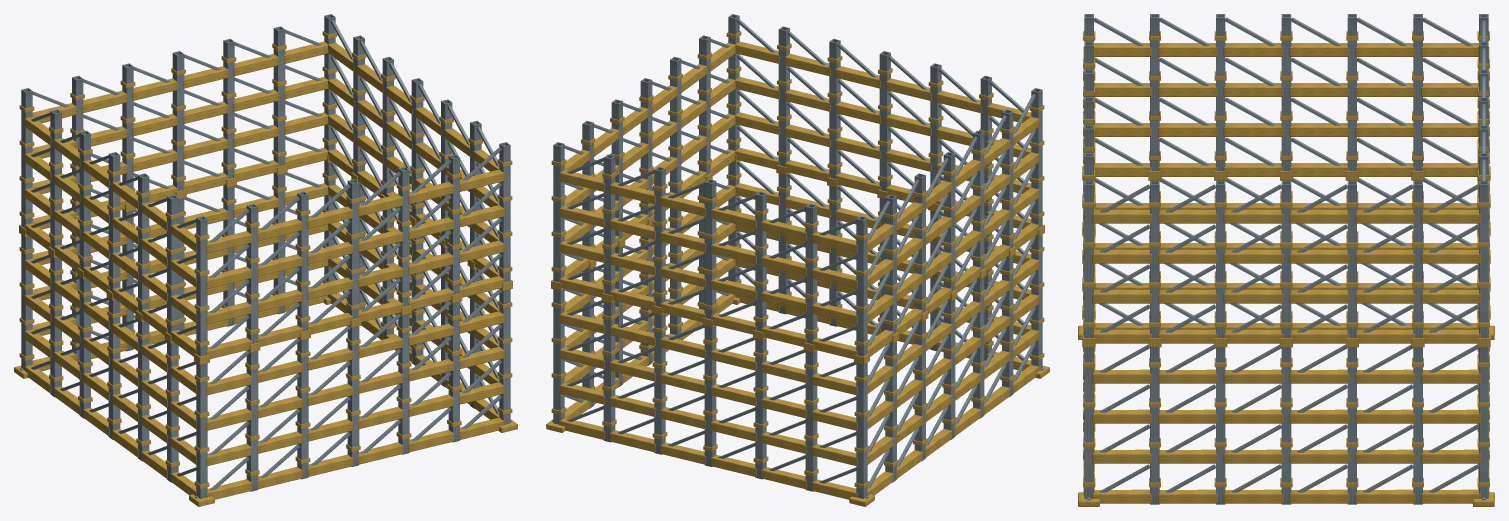
3 renders of one model, left to right at view 1: azimuth 30°, elevation 25°; view 2: azimuth 150°, elevation 25°; view 3: azimuth 270°, elevation 25°, orthographic. The views are drawn at different scales.
Visible parts, largest first — view 1: Tier 1 side 0 post 0, Tier 0 side 0 post 0, Tier 1 side 2 post 1, Tier 1 side 2 post 3, Tier 1 side 0 post 1, Tier 1 side 0 post 3, Tier 1 side 2 post 2, Tier 0 side 0 post 1, Tier 1 side 1 post 0, Tier 0 side 0 post 3, Tier 1 side 0 post 2, Tier 1 side 0 post 4 (+94 smaller); view 2: Tier 1 side 3 post 0, Tier 0 side 3 post 0, Tier 1 side 2 post 3, Tier 1 side 2 post 5, Tier 1 side 2 post 1, Tier 0 side 2 post 3, Tier 0 side 2 post 1, Tier 0 side 2 post 5, Tier 1 side 2 post 0, Tier 1 side 2 post 2, Tier 1 side 2 post 4, Tier 1 side 0 post 3 (+95 smaller); view 3: Tier 1 side 1 post 3, Tier 1 side 3 post 3, Tier 0 side 1 post 3, Tier 1 side 1 post 0, Tier 1 side 2 post 0, Tier 1 side 1 post 2, Tier 1 side 1 post 4, Tier 1 side 3 post 2, Tier 1 side 3 post 4, Tier 0 side 1 post 2, Tier 0 side 1 post 4, Tier 1 side 3 post 5 (+79 smaller).
Part boxes in pixels (left/top/right/bottom): Tier 1 side 0 post 0: left=196, top=216, right=207, bottom=356; Tier 0 side 0 post 0: left=196, top=363, right=207, bottom=498; Tier 1 side 2 post 1: left=273, top=26, right=285, bottom=166; Tier 1 side 2 post 3: left=172, top=51, right=184, bottom=191; Tier 1 side 0 post 1: left=246, top=203, right=258, bottom=343; Tier 1 side 0 post 3: left=347, top=179, right=359, bottom=319; Tier 1 side 2 post 2: left=223, top=38, right=234, bottom=178; Tier 0 side 0 post 1: left=246, top=351, right=258, bottom=491; Tier 1 side 1 post 0: left=499, top=142, right=510, bottom=282; Tier 0 side 0 post 3: left=347, top=326, right=359, bottom=466; Tier 1 side 0 post 2: left=297, top=191, right=308, bottom=331; Tier 1 side 0 post 4: left=398, top=166, right=409, bottom=306; Tier 1 side 3 post 0: left=856, top=216, right=867, bottom=356; Tier 0 side 3 post 0: left=856, top=363, right=867, bottom=498; Tier 1 side 2 post 3: left=704, top=179, right=716, bottom=319; Tier 1 side 2 post 5: left=805, top=203, right=817, bottom=343; Tier 1 side 2 post 1: left=603, top=154, right=615, bottom=294; Tier 0 side 2 post 3: left=704, top=326, right=716, bottom=466; Tier 0 side 2 post 1: left=603, top=301, right=615, bottom=442; Tier 0 side 2 post 5: left=805, top=350, right=817, bottom=491; Tier 1 side 2 post 0: left=553, top=142, right=564, bottom=282; Tier 1 side 2 post 2: left=654, top=166, right=665, bottom=306; Tier 1 side 2 post 4: left=755, top=191, right=766, bottom=331; Tier 1 side 0 post 3: left=879, top=51, right=890, bottom=191; Tier 1 side 1 post 3: left=1281, top=181, right=1291, bottom=338; Tier 1 side 3 post 3: left=1281, top=14, right=1291, bottom=171; Tier 0 side 1 post 3: left=1281, top=347, right=1291, bottom=504; Tier 1 side 1 post 0: left=1084, top=181, right=1093, bottom=338; Tier 1 side 2 post 0: left=1479, top=181, right=1488, bottom=338; Tier 1 side 1 post 2: left=1216, top=181, right=1225, bottom=338; Tier 1 side 1 post 4: left=1347, top=181, right=1356, bottom=338; Tier 1 side 3 post 2: left=1347, top=14, right=1356, bottom=171; Tier 1 side 3 post 4: left=1216, top=14, right=1225, bottom=171; Tier 0 side 1 post 2: left=1216, top=347, right=1225, bottom=504; Tier 0 side 1 post 4: left=1347, top=347, right=1356, bottom=504; Tier 1 side 3 post 5: left=1150, top=14, right=1159, bottom=171.
Size of the model in its own units: 2.85 by 2.41 by 2.85.
Materials: 2 (2 with a texture image).
